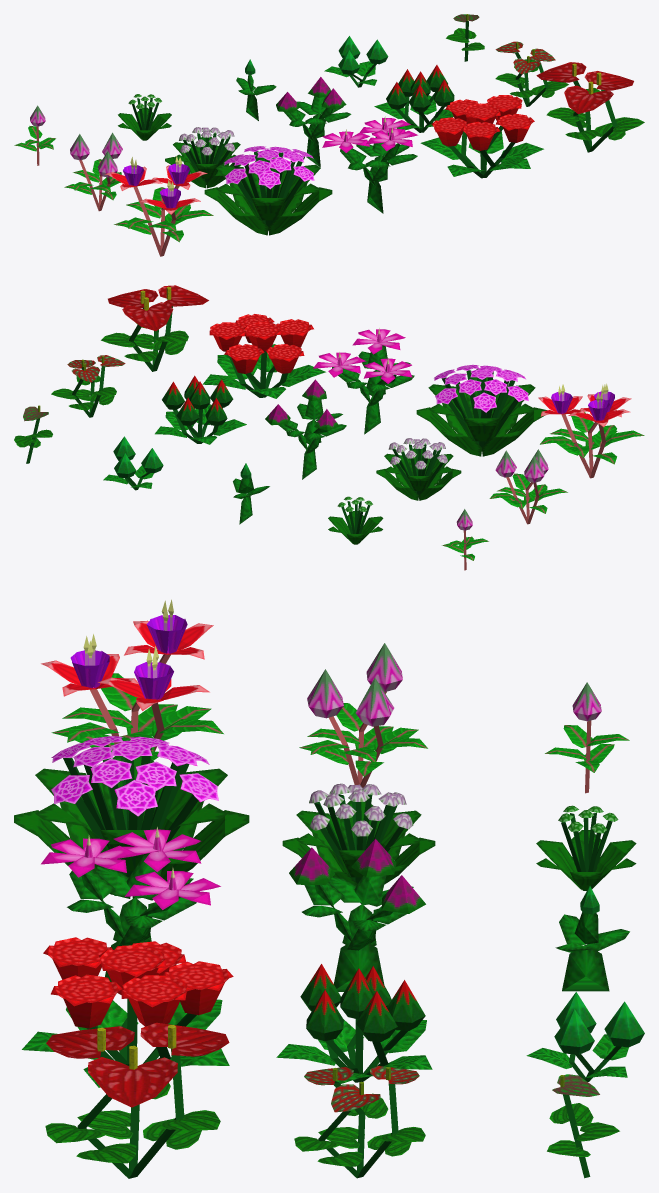
Rendered from FlowersLvl3Exotic.fbx.
The picture shows the model from 3 angles, top to bottom: view 1: azimuth 30°, elevation 25°; view 2: azimuth 150°, elevation 25°; view 3: azimuth 270°, elevation 25°; orthographic projection. The views are drawn at different scales.
Parts seen in each view (by area): view 1: Kalanchoe3, Begonia3, Anthurium3, Fuchsia3, Decembrist3, Begonia2, Kalanchoe2, Decembrist2, Fuchsia2, Anthurium2, Begonia1, Kalanchoe1 (+3 smaller); view 2: Kalanchoe3, Begonia3, Anthurium3, Fuchsia3, Decembrist3, Begonia2, Kalanchoe2, Decembrist2, Fuchsia2, Anthurium2, Begonia1, Kalanchoe1 (+3 smaller); view 3: Kalanchoe3, Begonia3, Anthurium3, Fuchsia3, Decembrist3, Begonia2, Decembrist2, Kalanchoe2, Fuchsia2, Anthurium2, Begonia1, Kalanchoe1 (+3 smaller).
Boxes of the visible parts, <box> form: Kalanchoe3: <box>204,146,332,235</box>; Begonia3: <box>420,95,543,178</box>; Anthurium3: <box>536,62,644,152</box>; Fuchsia3: <box>104,156,213,256</box>; Decembrist3: <box>322,116,417,213</box>; Begonia2: <box>374,65,454,132</box>; Kalanchoe2: <box>165,127,241,188</box>; Decembrist2: <box>276,77,351,167</box>; Fuchsia2: <box>64,132,122,211</box>; Anthurium2: <box>495,41,568,106</box>; Begonia1: <box>324,36,388,87</box>; Kalanchoe1: <box>118,94,171,140</box>; Kalanchoe3: <box>416,364,546,456</box>; Begonia3: <box>202,314,325,398</box>; Anthurium3: <box>101,285,208,371</box>; Fuchsia3: <box>538,383,644,478</box>; Decembrist3: <box>313,328,414,434</box>; Begonia2: <box>155,375,246,444</box>; Kalanchoe2: <box>376,438,461,500</box>; Decembrist2: <box>265,379,346,479</box>; Fuchsia2: <box>489,449,567,524</box>; Anthurium2: <box>51,355,125,417</box>; Begonia1: <box>103,436,163,490</box>; Kalanchoe1: <box>328,496,383,544</box>; Kalanchoe3: <box>14,736,249,898</box>; Begonia3: <box>22,937,233,1087</box>; Anthurium3: <box>45,1022,229,1178</box>; Fuchsia3: <box>41,599,223,760</box>; Decembrist3: <box>41,826,220,981</box>; Begonia2: <box>276,964,432,1083</box>; Decembrist2: <box>289,839,425,991</box>; Kalanchoe2: <box>282,783,435,885</box>; Fuchsia2: <box>299,643,427,787</box>; Anthurium2: <box>294,1066,425,1178</box>; Begonia1: <box>526,992,644,1081</box>; Kalanchoe1: <box>536,805,636,890</box>.
Size of the model in its own units: 482 by 89.85 by 278.
